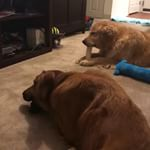puppy: (19, 65, 116, 129), (72, 17, 149, 68)
